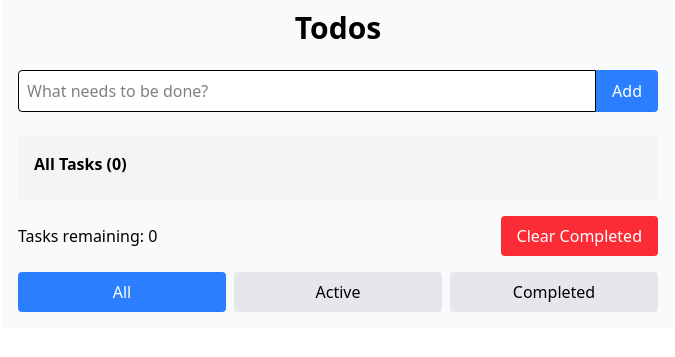
Todos › adds todo with Enter key
Type "New task" into the field with placeholder "What needs to be done?" at (307, 91), box [18,70,596,112]
Then press Enter
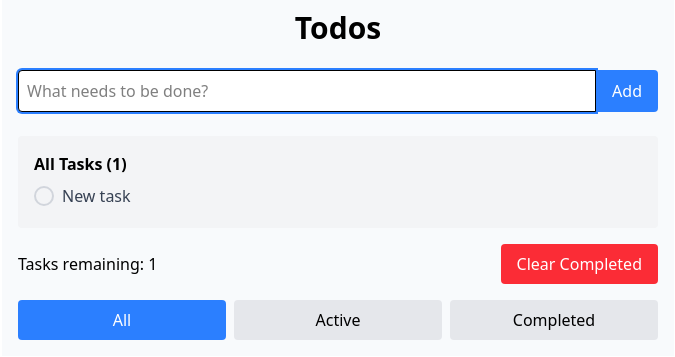
Check: the text "New task" is shown, box [62,184,131,208]
